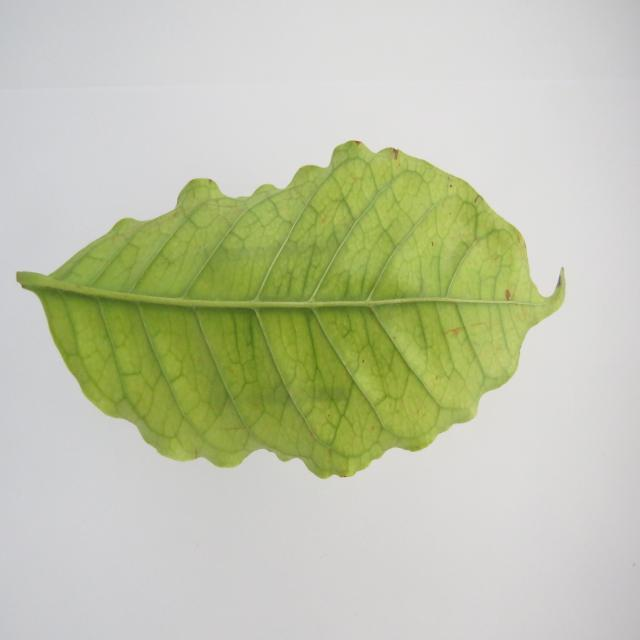DeficienciaNutricional-Calcio: (18, 142, 565, 477)
